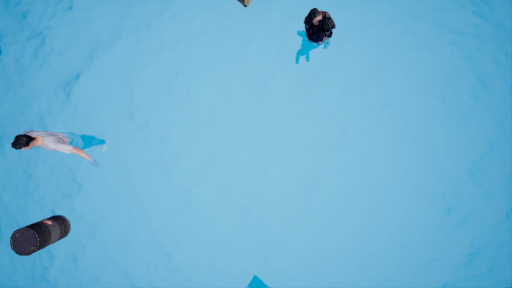person: (10, 122, 116, 168), (288, 5, 334, 68)
